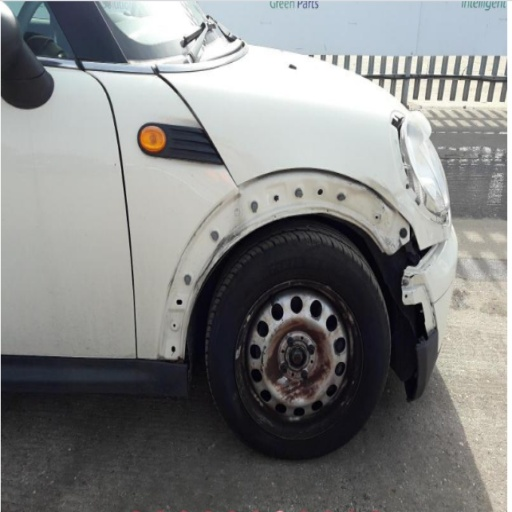rust: (327, 170, 412, 254), (261, 317, 332, 404)
scratch: (193, 231, 239, 289), (167, 276, 175, 292)
